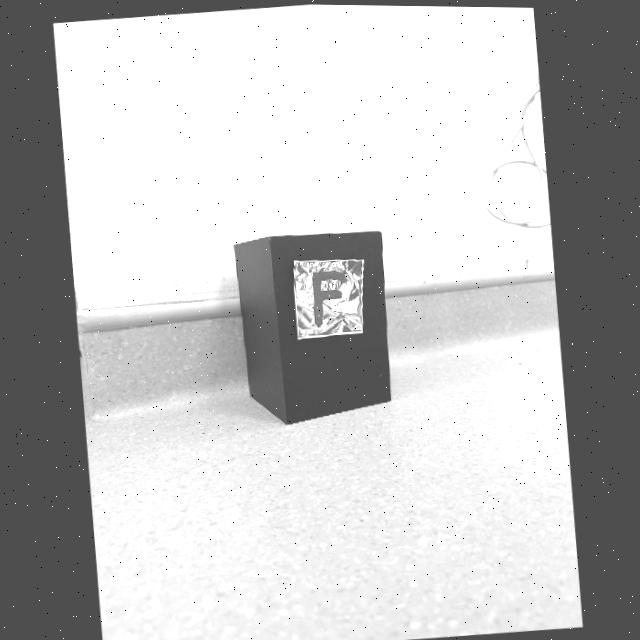F: (313, 270, 346, 325)
